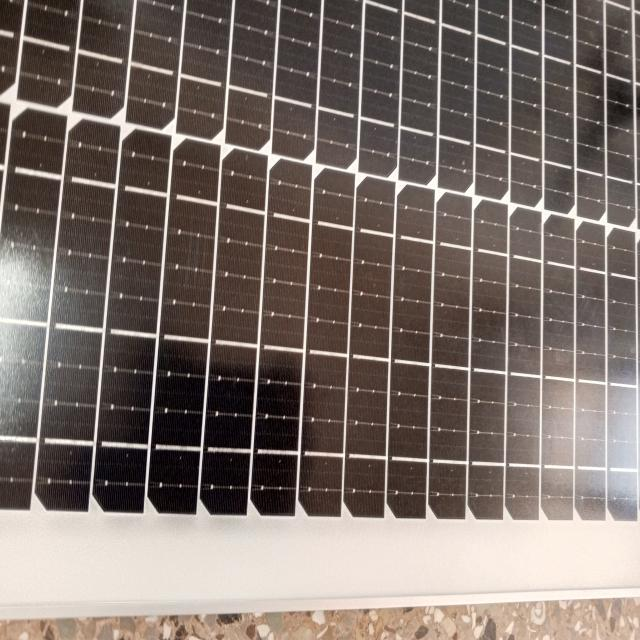Clean: (9, 6, 634, 570)
